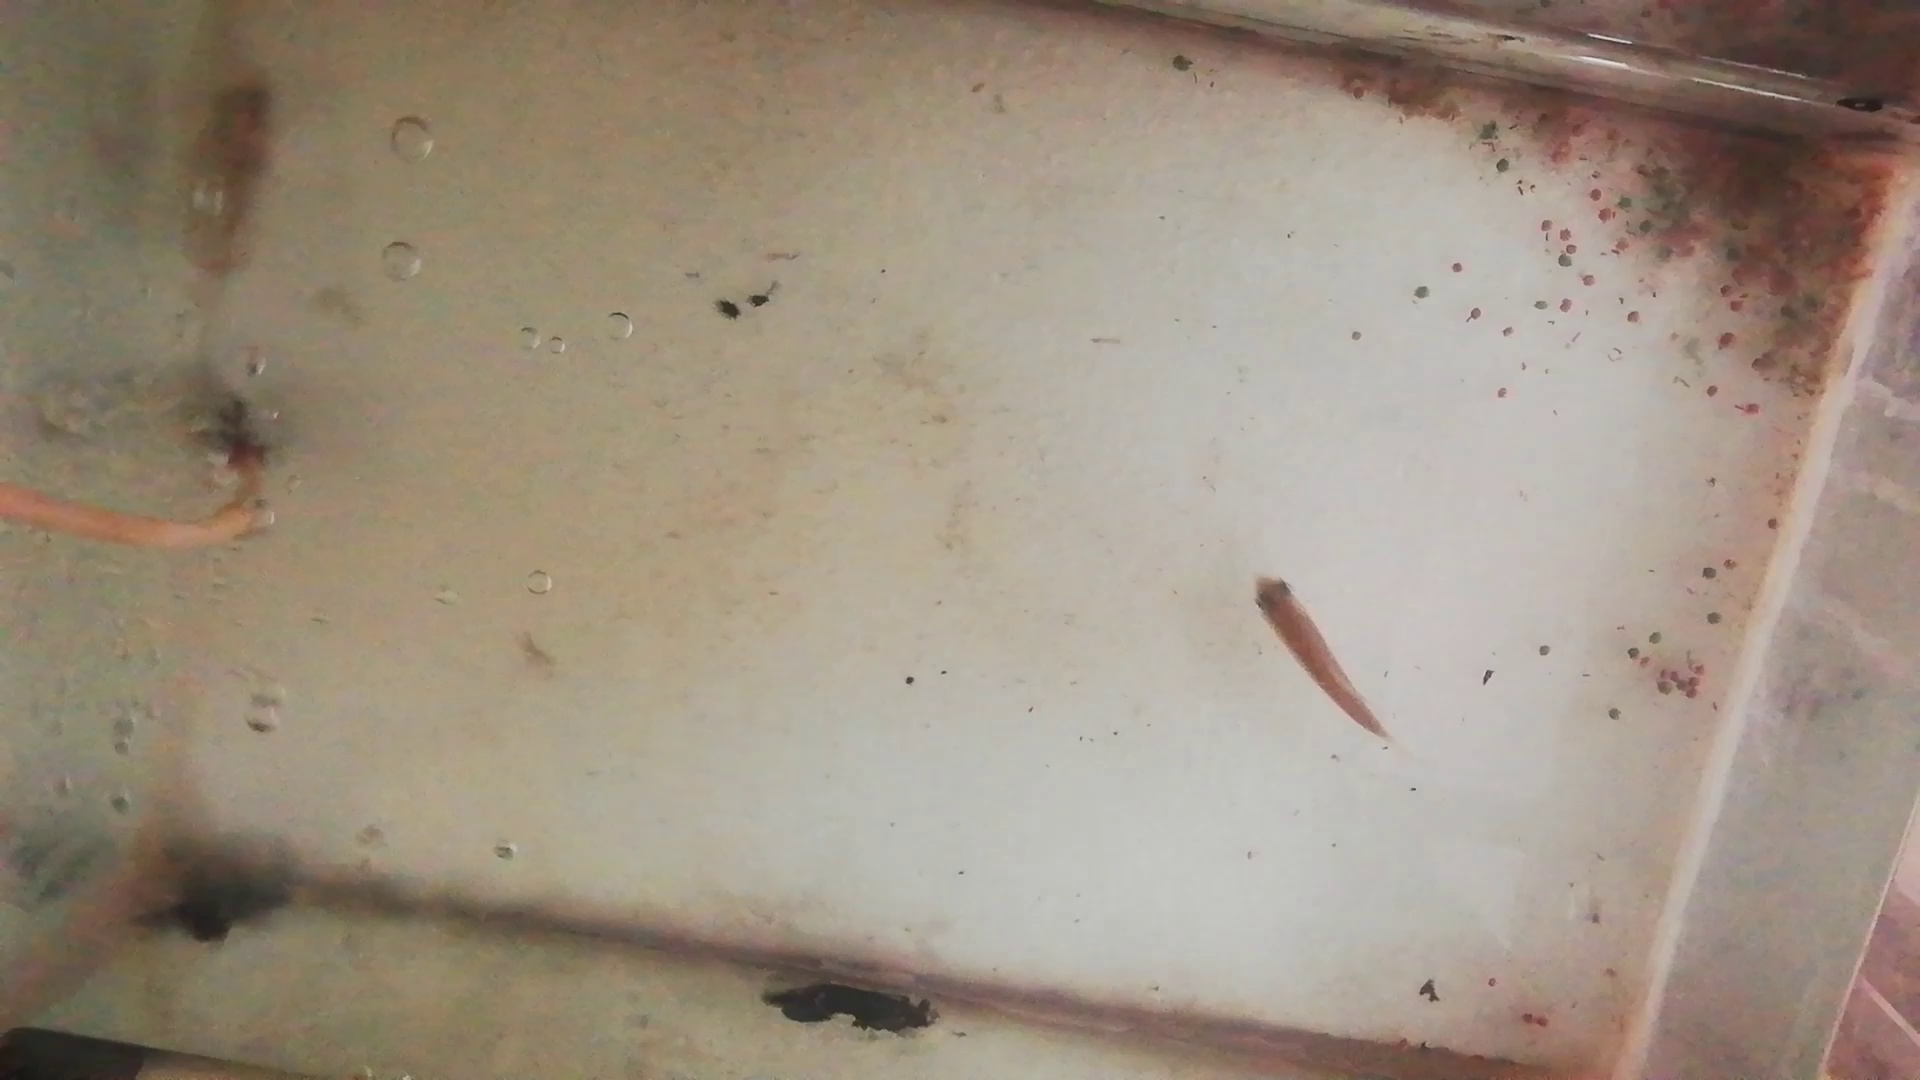fish: (1249, 568, 1390, 738), (191, 65, 270, 297)
